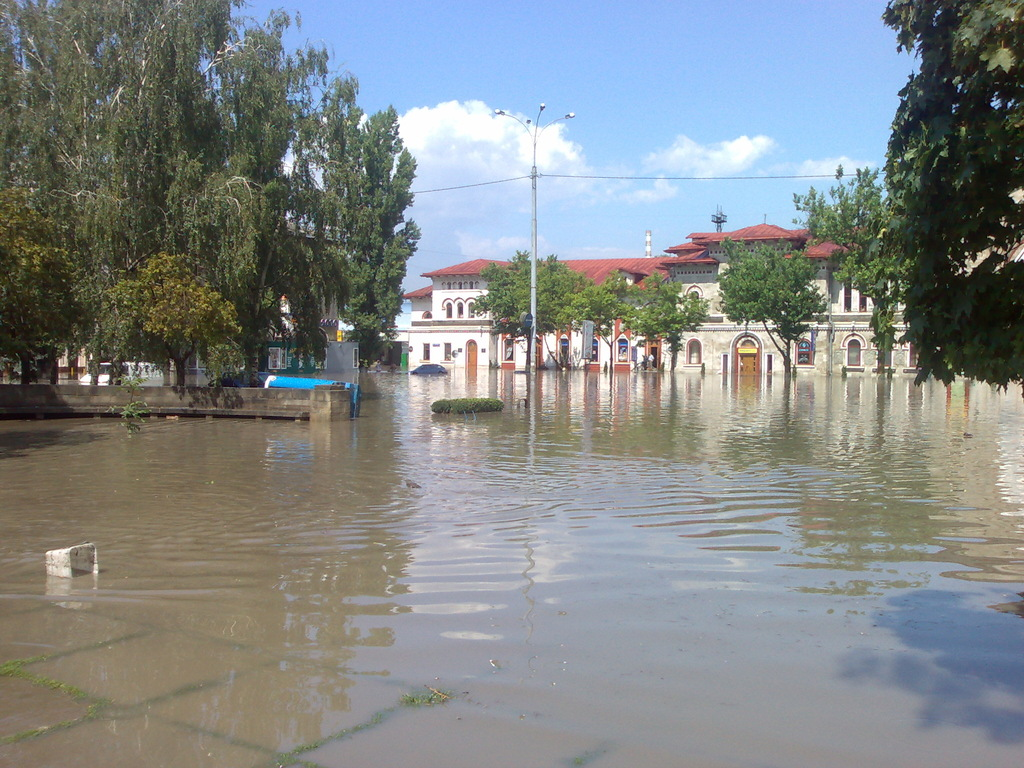Tree: (0, 0, 421, 440), (880, 0, 1024, 395), (792, 163, 920, 375), (713, 234, 831, 373), (467, 245, 592, 368), (557, 268, 648, 367), (642, 269, 711, 371)
